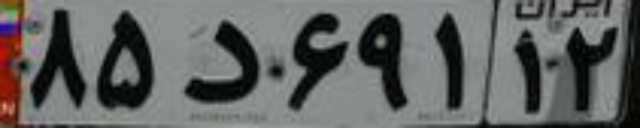1: (430, 10, 461, 111), (511, 28, 543, 113)
2: (561, 25, 619, 112)
5: (93, 9, 151, 109)
6: (287, 10, 350, 109)
8: (30, 6, 85, 110)
9: (352, 11, 410, 111)
dal: (175, 17, 264, 104)
